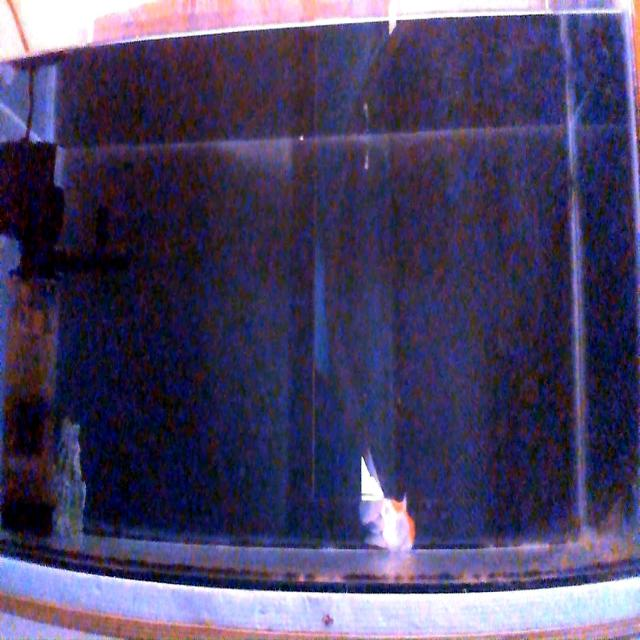fish: (359, 450, 417, 550)
